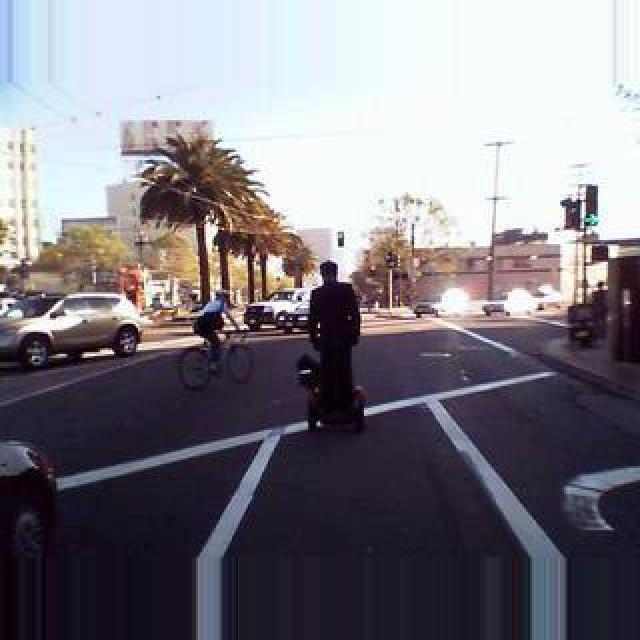Bus-Bike: (0, 292, 150, 370), (240, 280, 312, 330)
MC-Bike: (308, 260, 364, 426), (192, 288, 230, 370)
Person: (298, 352, 370, 434), (180, 332, 254, 390)
